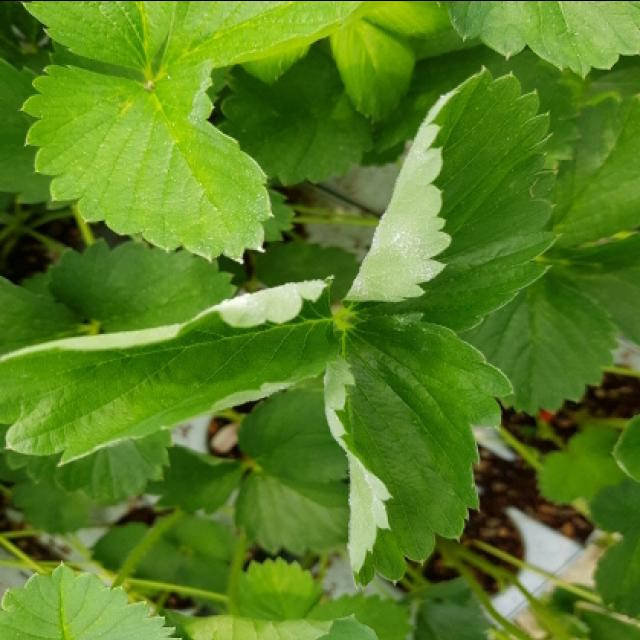Powdery Mildew Leaf: (0, 277, 341, 467), (342, 62, 563, 337), (322, 312, 515, 588)
